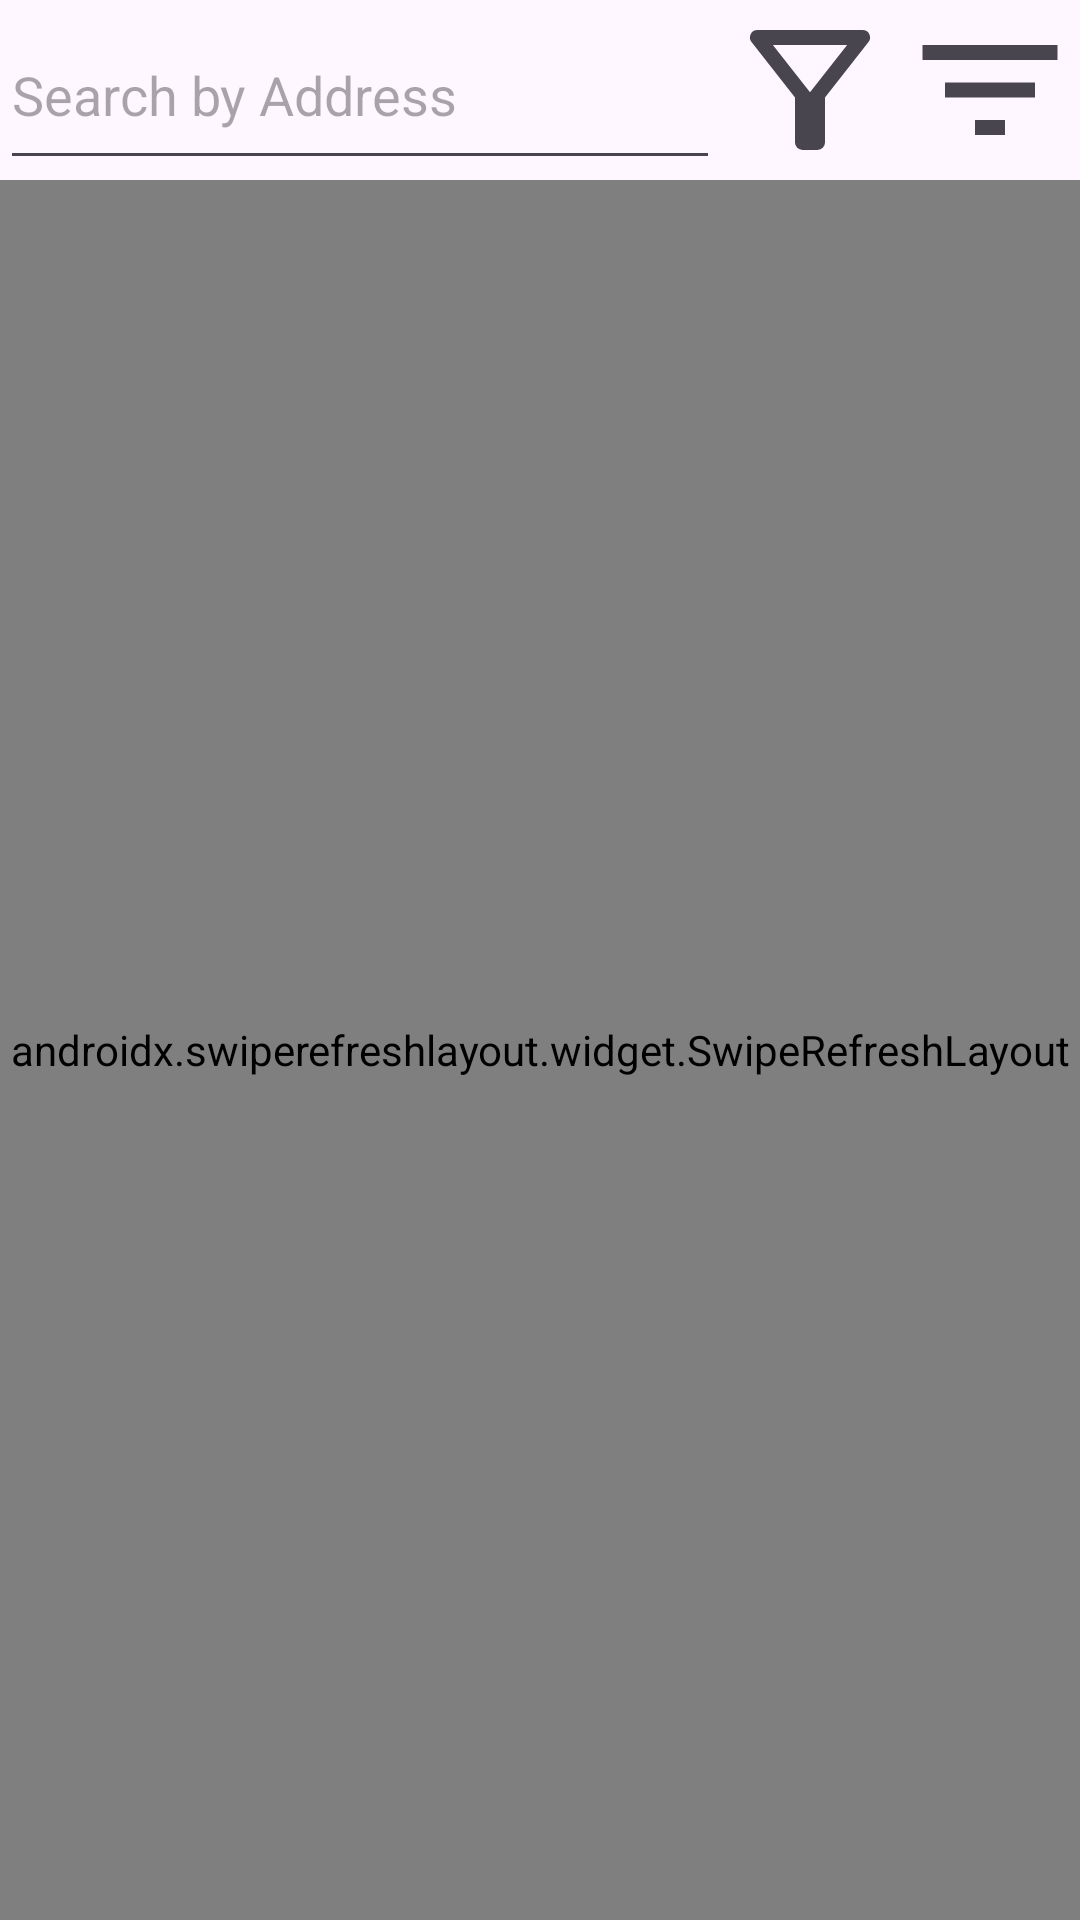

Locate icon controls on the screen. Image size 1080 x 1920, boxes as [left=x1, top=y1, right=x2, bottom=y2].
Open filter button: [left=750, top=30, right=870, bottom=150]
Open Sort button: [left=922, top=45, right=1058, bottom=135]
